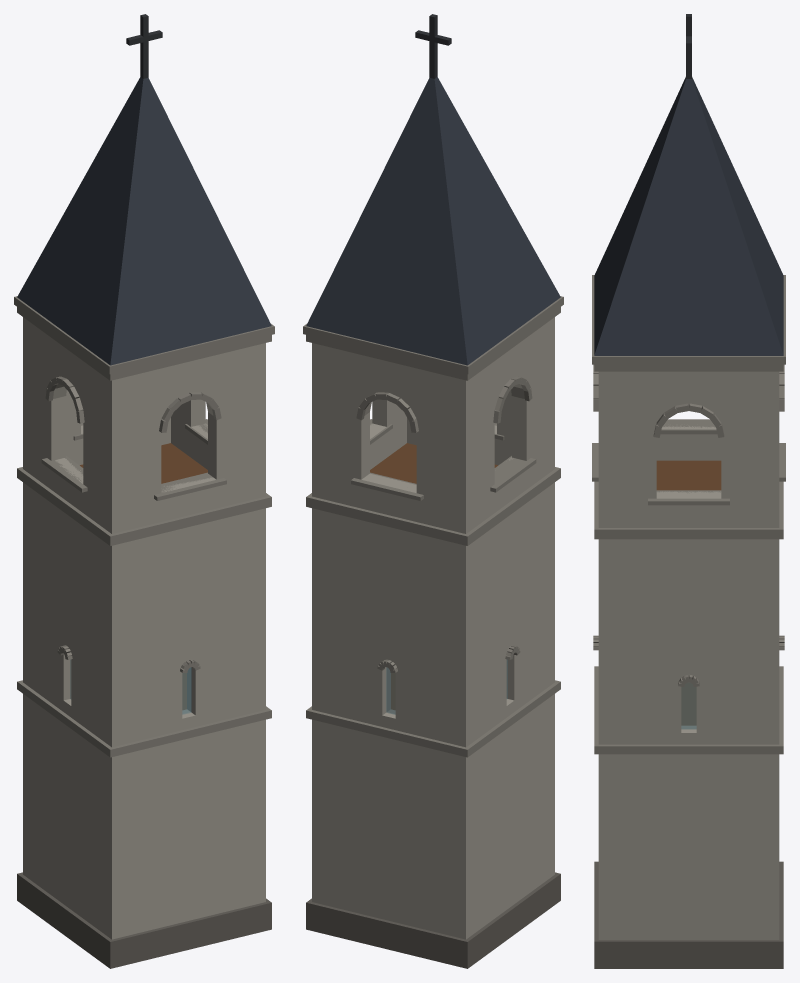
File: SM_Bld_Church_Tower_01.glb
3 renders of one model, left to right at view 1: azimuth 30°, elevation 25°; view 2: azimuth 150°, elevation 25°; view 3: azimuth 270°, elevation 25°, orthographic.
Parts seen in each view (by area): view 1: SM_Bld_Church_Tower_01; view 2: SM_Bld_Church_Tower_01; view 3: SM_Bld_Church_Tower_01.
Part boxes in pixels (box(x1,y1,x2,y2)): SM_Bld_Church_Tower_01: box(14, 14, 274, 968); SM_Bld_Church_Tower_01: box(303, 14, 563, 968); SM_Bld_Church_Tower_01: box(592, 14, 785, 968).
Size of the model in its own units: 4.5 by 23.4 by 4.5.
2 materials, 2 textured.
